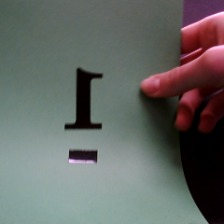green1: (54, 58, 124, 177)
